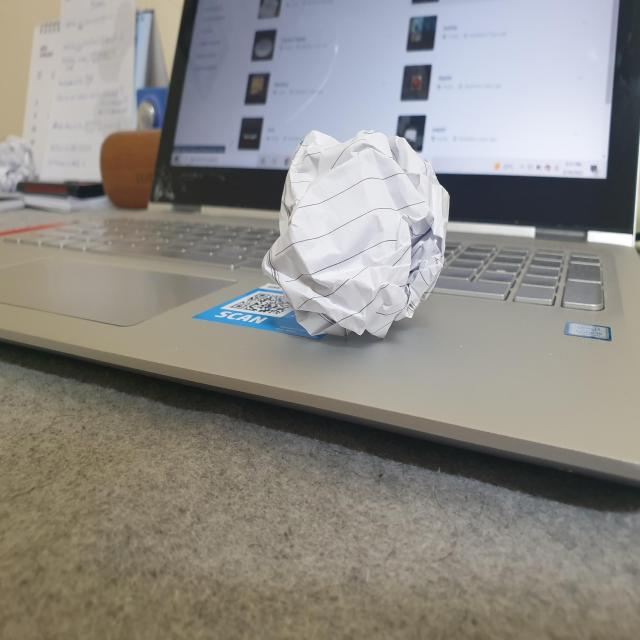kertas: (259, 124, 465, 354)
